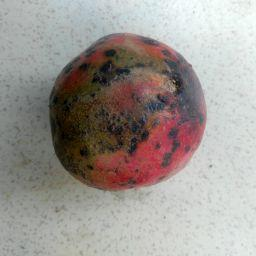pomegranate: (49, 33, 207, 190)
